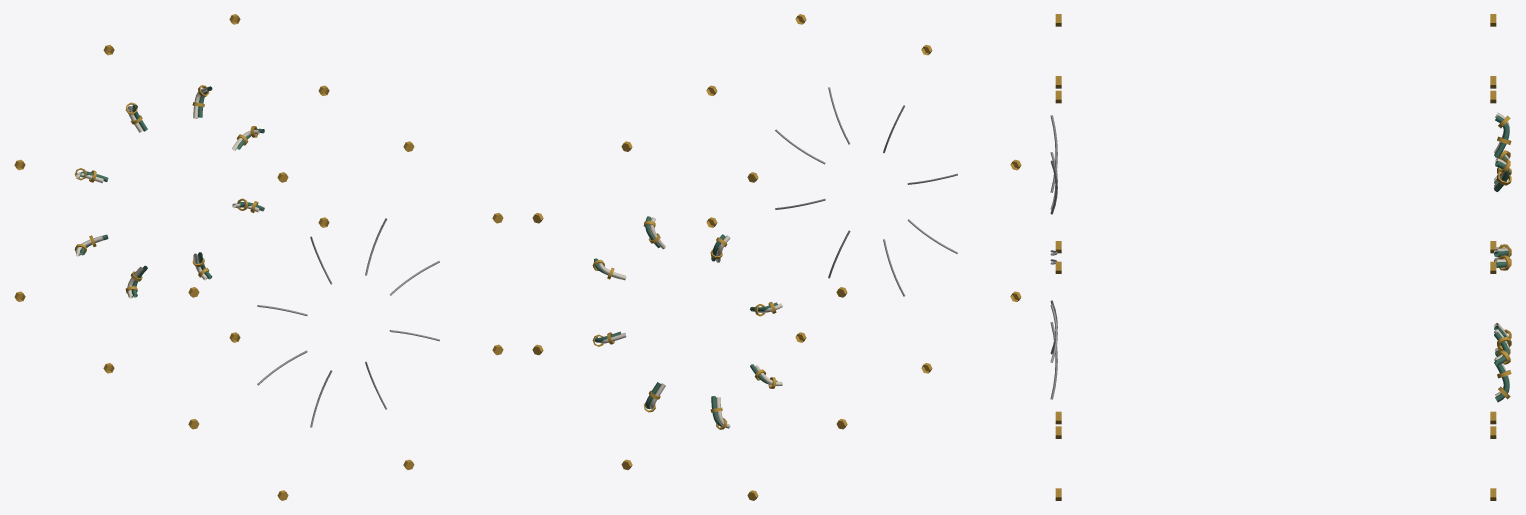
Rendered from h5_harness.obj.
3 views of the same model, side by side, from view 1: azimuth 30°, elevation 25°; view 2: azimuth 150°, elevation 25°; view 3: azimuth 270°, elevation 25° (orthographic). The views are drawn at different scales.
Visible parts, largest first — view 1: h5_harness; view 2: h5_harness; view 3: h5_harness.
Part boxes in pixels (bbox=[...]): h5_harness: bbox=[14, 14, 503, 500]; h5_harness: bbox=[532, 14, 1021, 500]; h5_harness: bbox=[1050, 14, 1511, 500].
Size of the model in its own units: 2.24 by 2.23 by 2.29.
